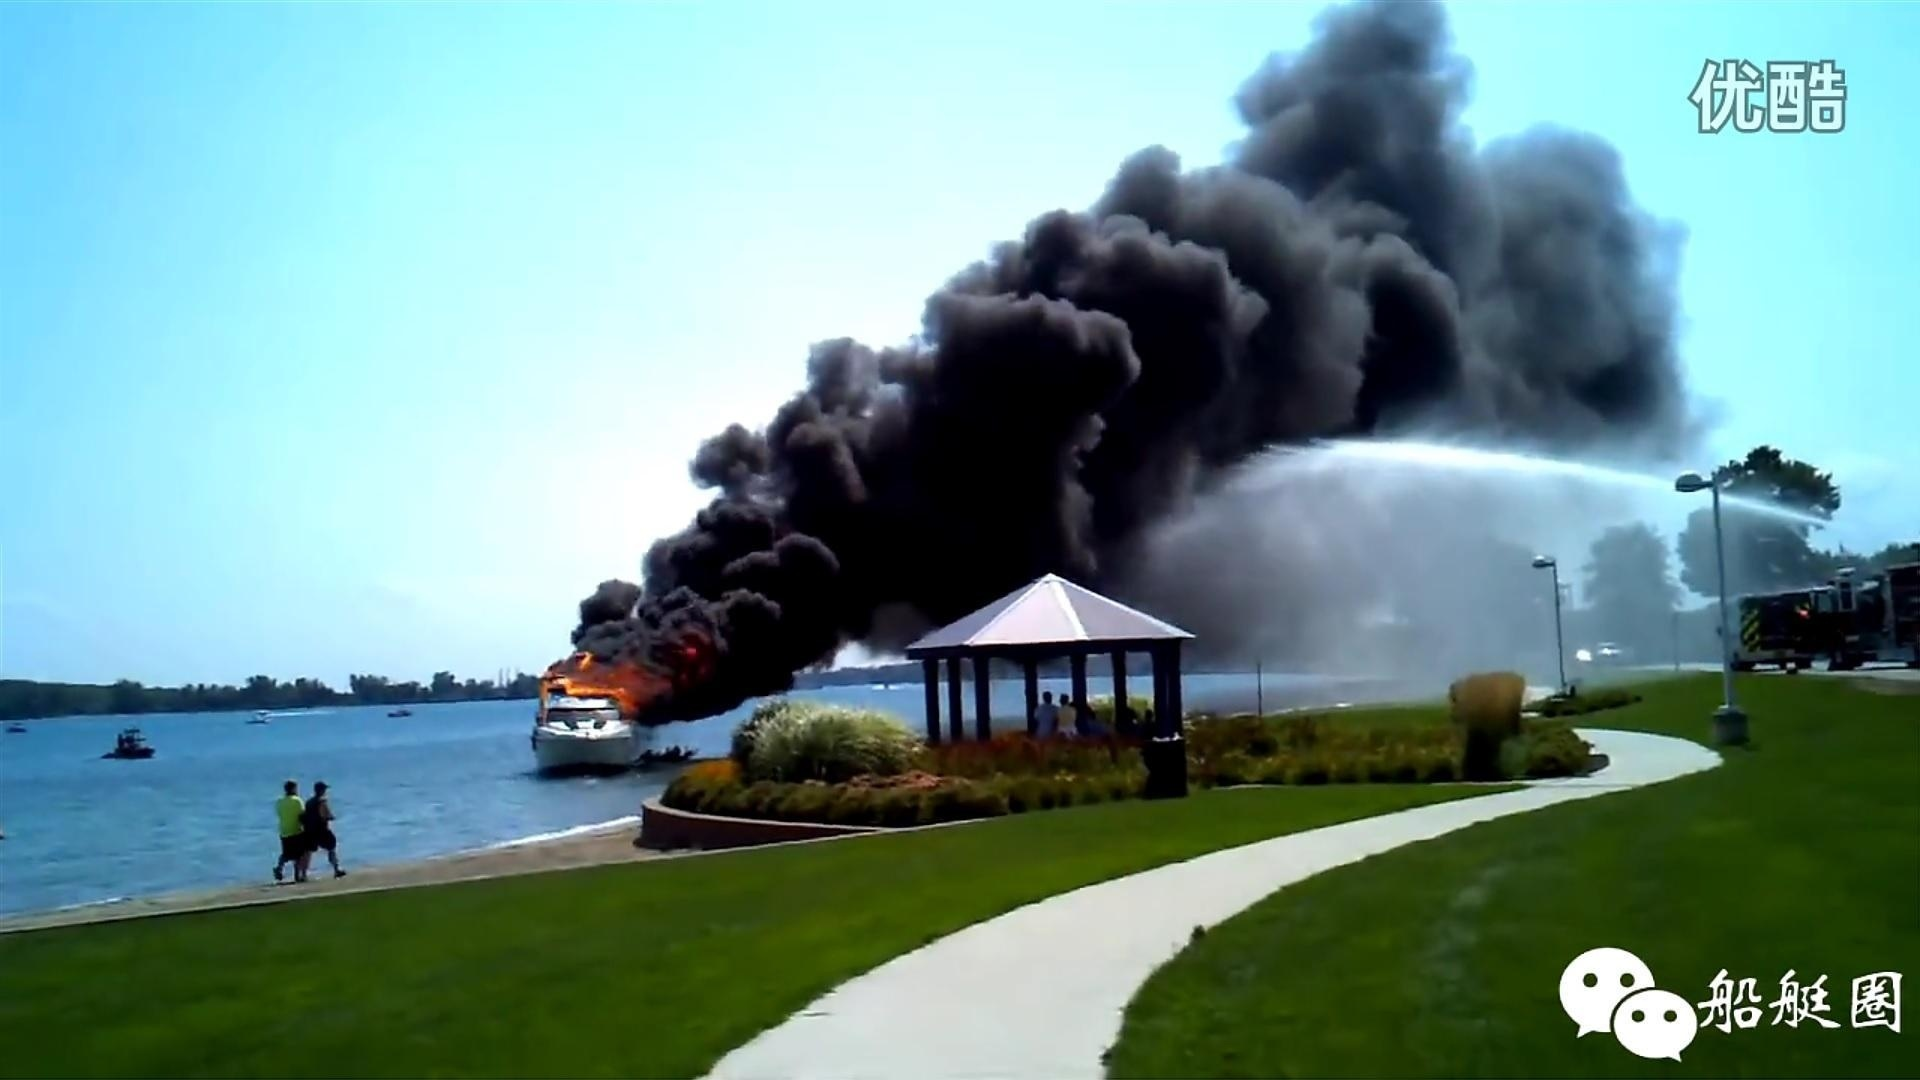fire: (547, 659, 637, 709)
